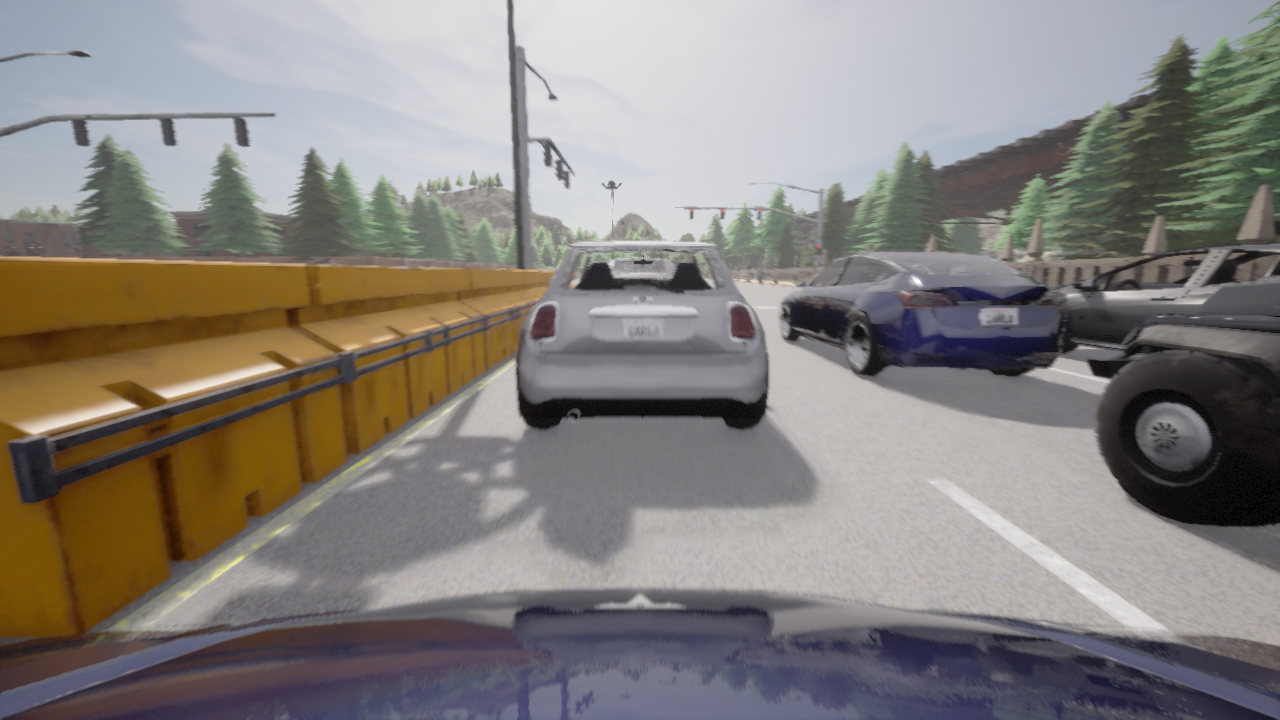cyclist: (0, 588, 1279, 719), (1086, 276, 1279, 526), (515, 241, 769, 428), (778, 252, 1066, 376), (1053, 244, 1279, 354)
